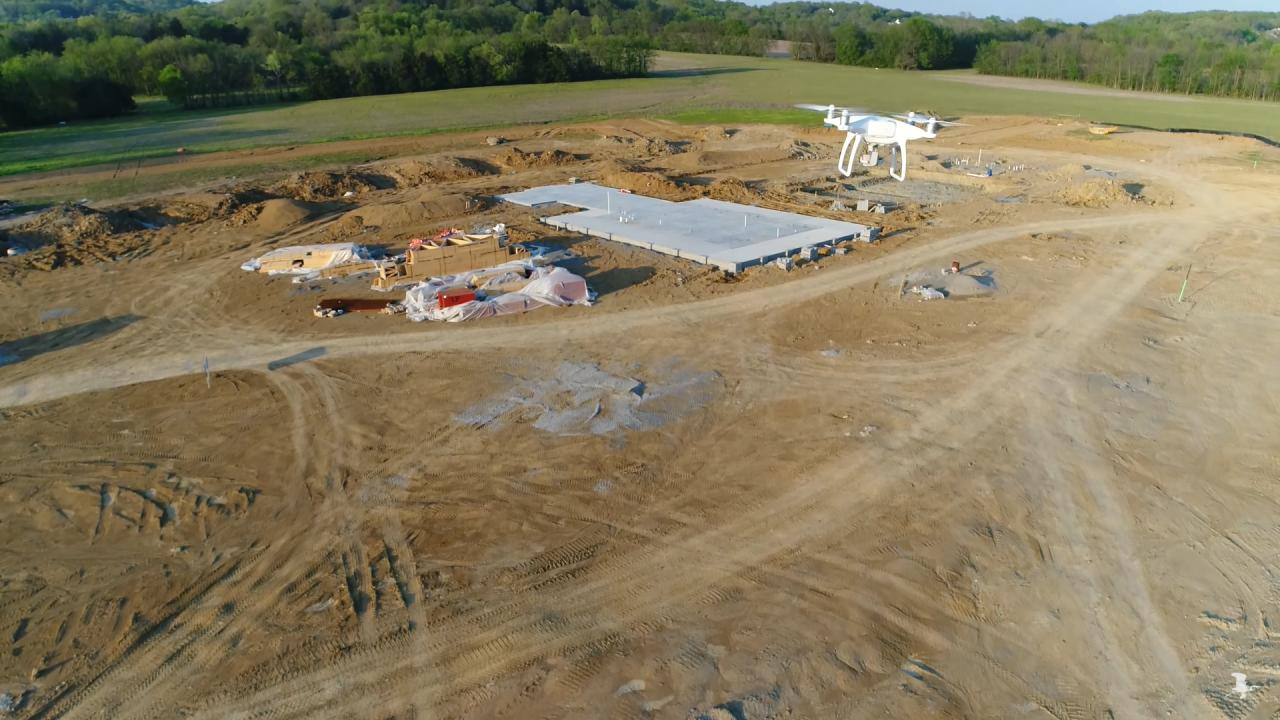Drone: (780, 92, 983, 188)
